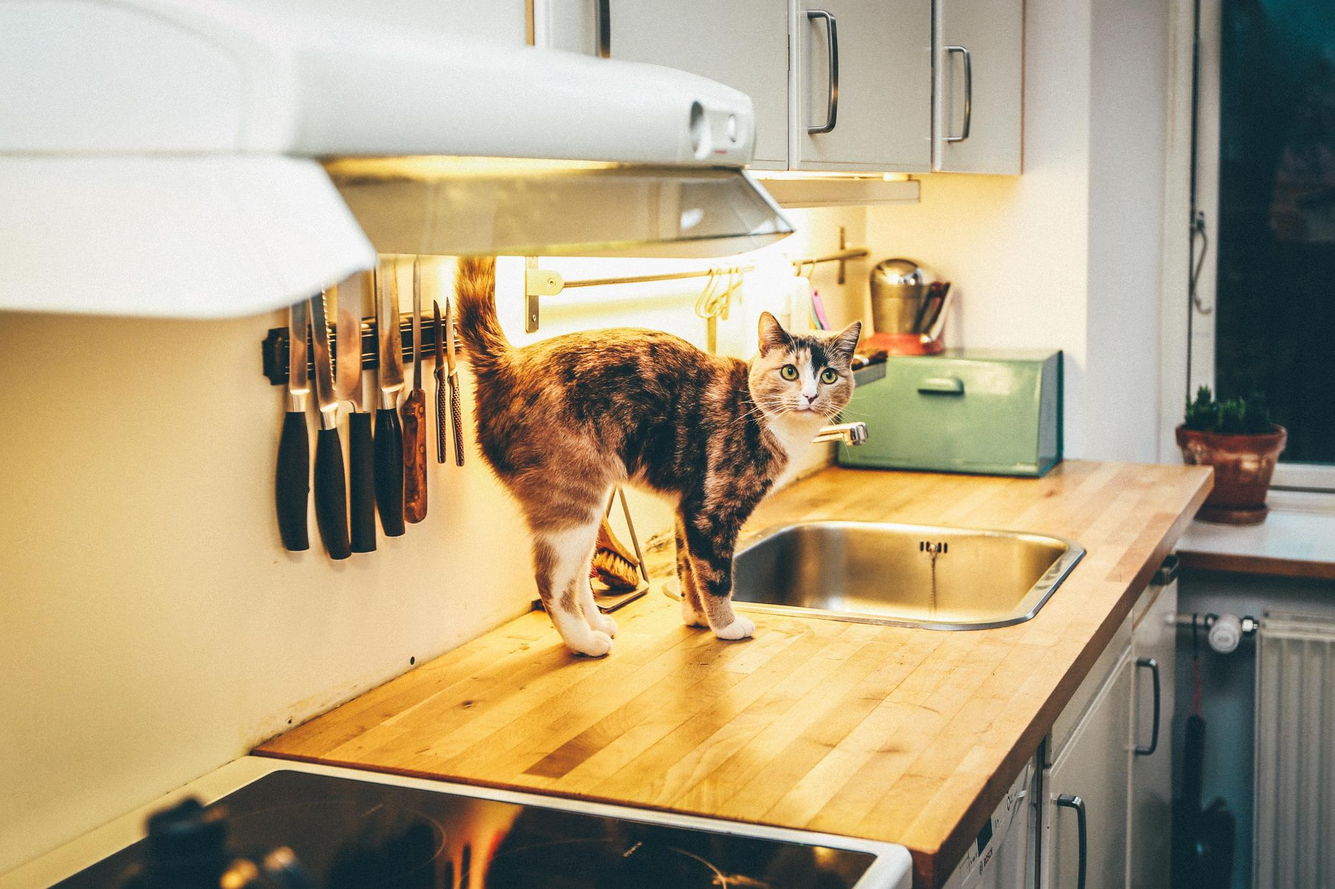cat: (452, 254, 863, 659)
